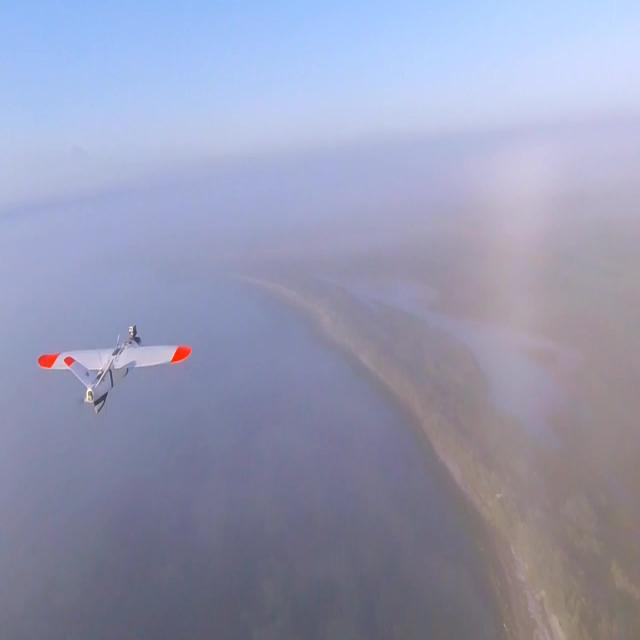iha: (0, 356, 129, 385)
